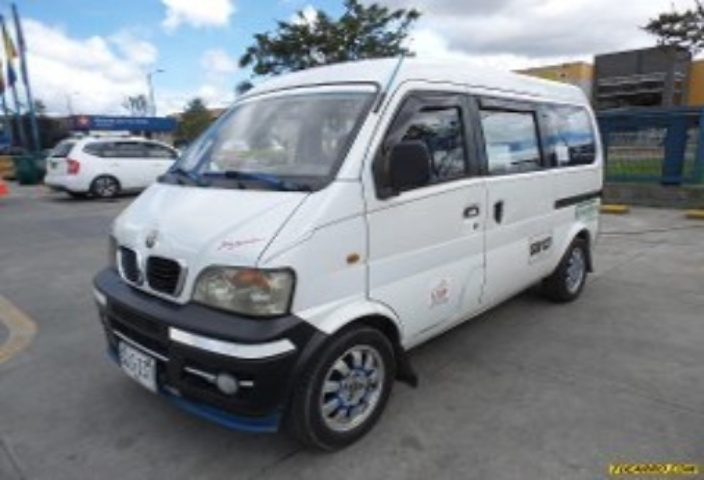camper: (50, 123, 207, 216)
van: (91, 48, 648, 433)
